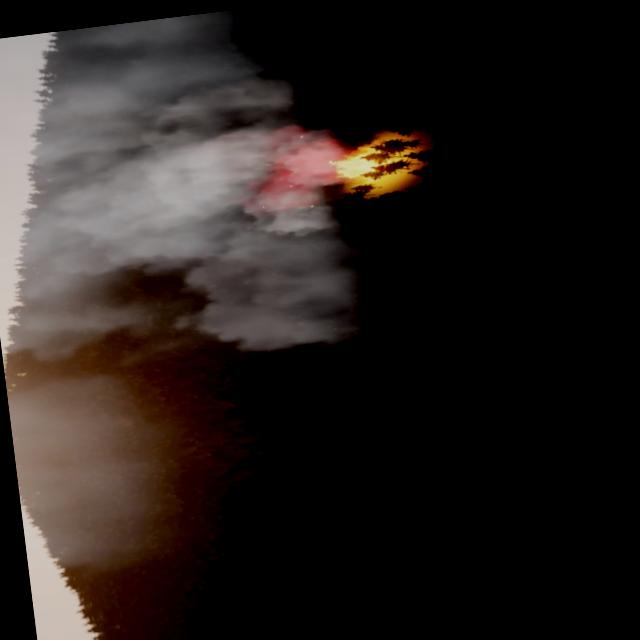fire: (338, 137, 393, 183)
smoke: (0, 0, 389, 385), (7, 366, 208, 580)
